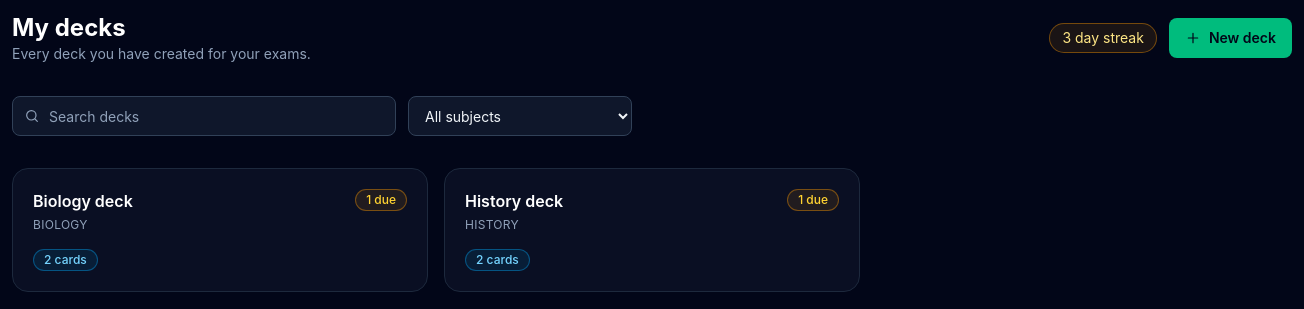
it: DashboardPage › shows the streak and filters decks by subject
The width and height of the screenshot is (1304, 309).
Expected: the heading "Biology deck" is shown, [33,189,133,213]
Expected: the heading "History deck" is shown, [465,189,563,213]
Select "Biology" in the dropdown named "Filter by subject" at point(520, 116), box [408,96,632,136]
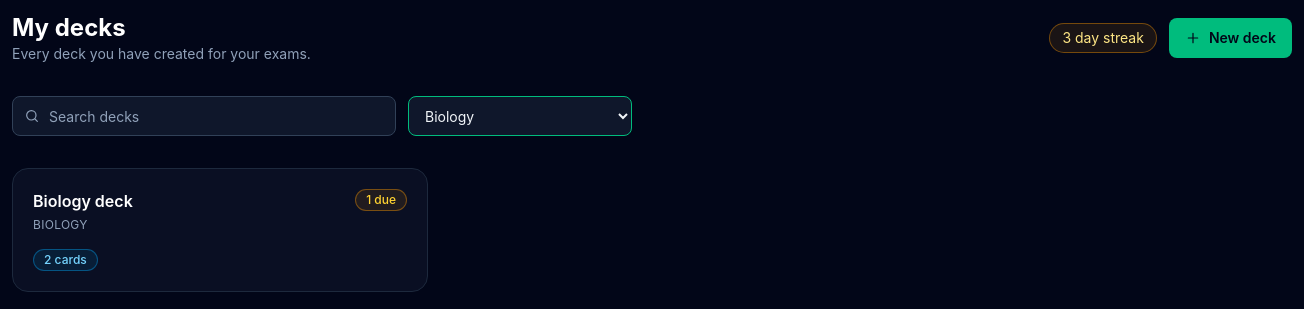
Expected: the heading "Biology deck" is shown, [33,189,133,213]
Expected: the link "History deck" is gone
